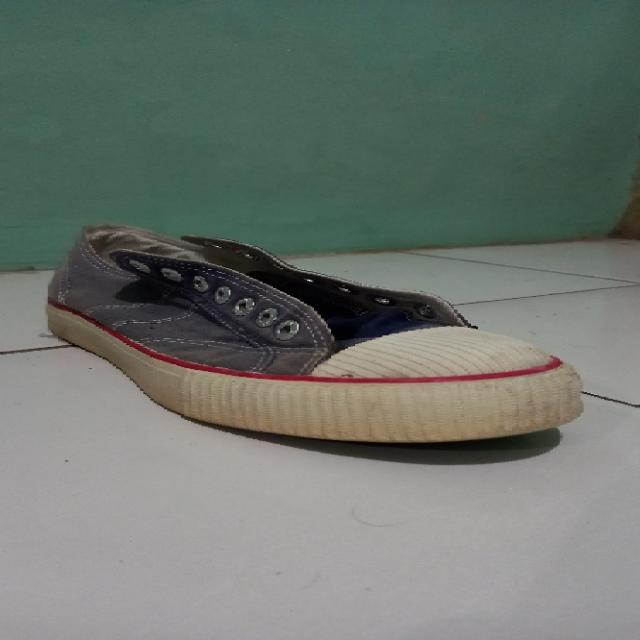shoe: (42, 222, 588, 444)
